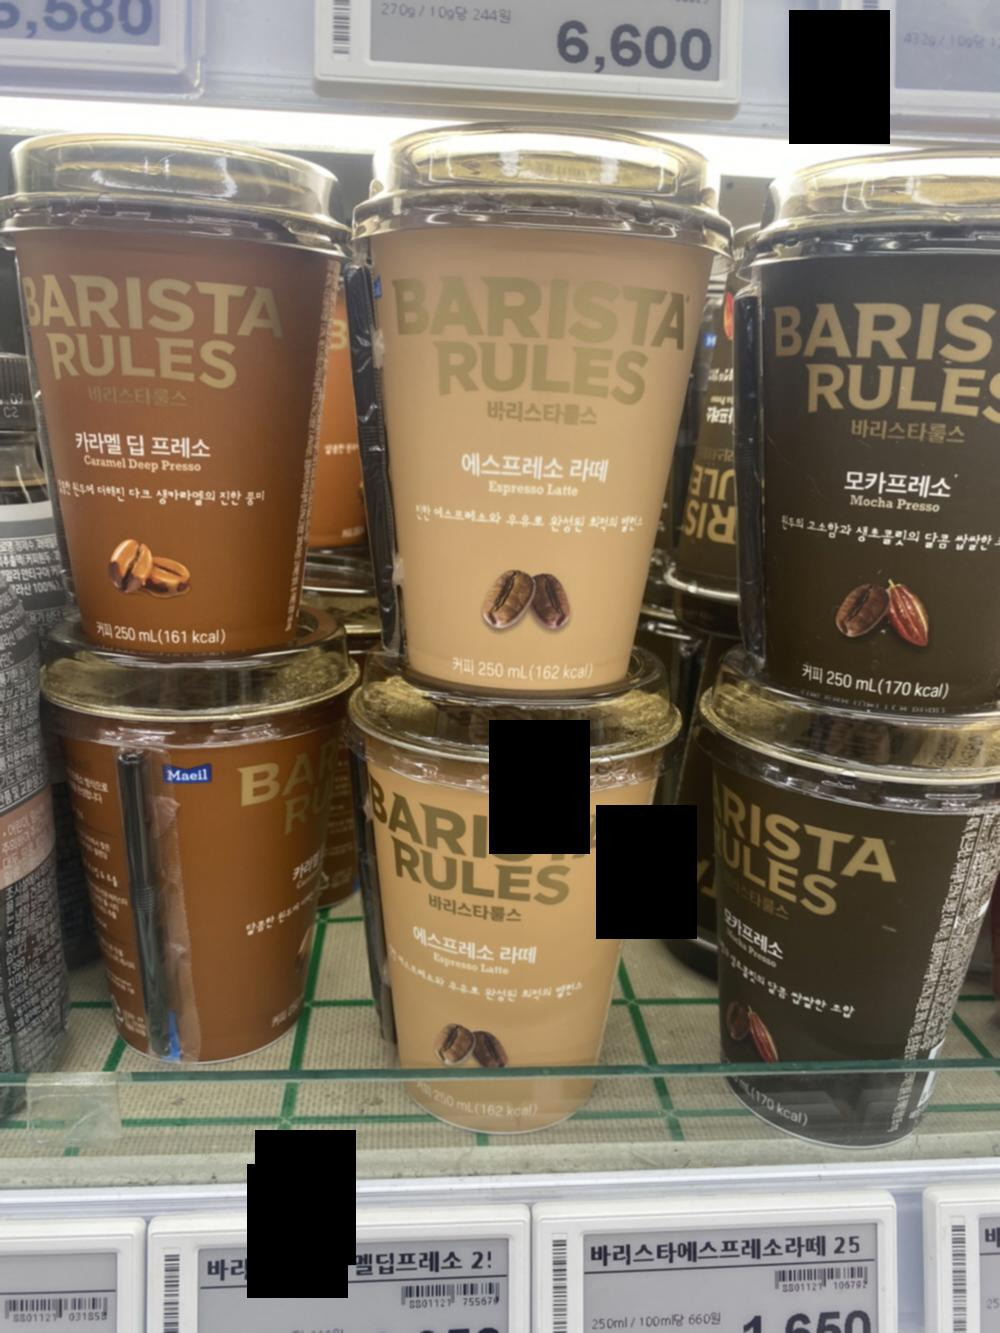baristarules_espressolatte: (355, 121, 720, 710), (342, 701, 693, 1129)
